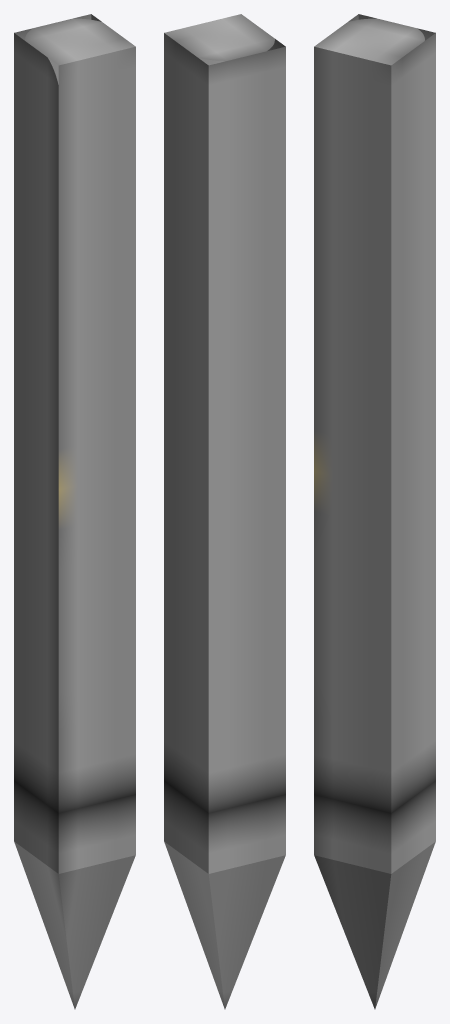
Rendered from precass_spike1.obj.
The picture shows the model from 3 angles, left to right: view 1: azimuth 30°, elevation 25°; view 2: azimuth 210°, elevation 25°; view 3: azimuth 330°, elevation 25°; orthographic projection.
Visible parts, largest first — view 1: Spike1; view 2: Spike1; view 3: Spike1.
Boxes of the visible parts, x1,y1,x2,y2 form: Spike1: [14, 14, 135, 1009]; Spike1: [164, 14, 285, 1009]; Spike1: [314, 14, 435, 1009].
Size of the model in its own units: 0.125 by 1.5 by 0.125.
